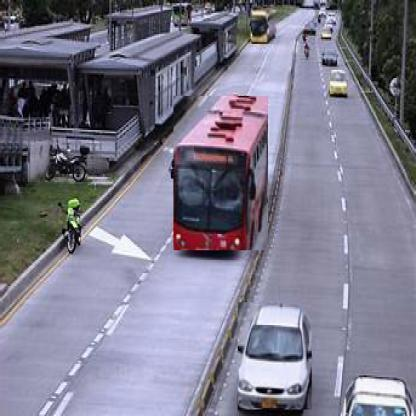bus: (173, 97, 269, 253), (252, 8, 278, 47)
car: (238, 303, 313, 412), (346, 378, 414, 415), (329, 71, 352, 97), (325, 50, 338, 68), (323, 30, 334, 40), (308, 24, 317, 34)
motorbike: (305, 44, 314, 60), (304, 35, 309, 42)
